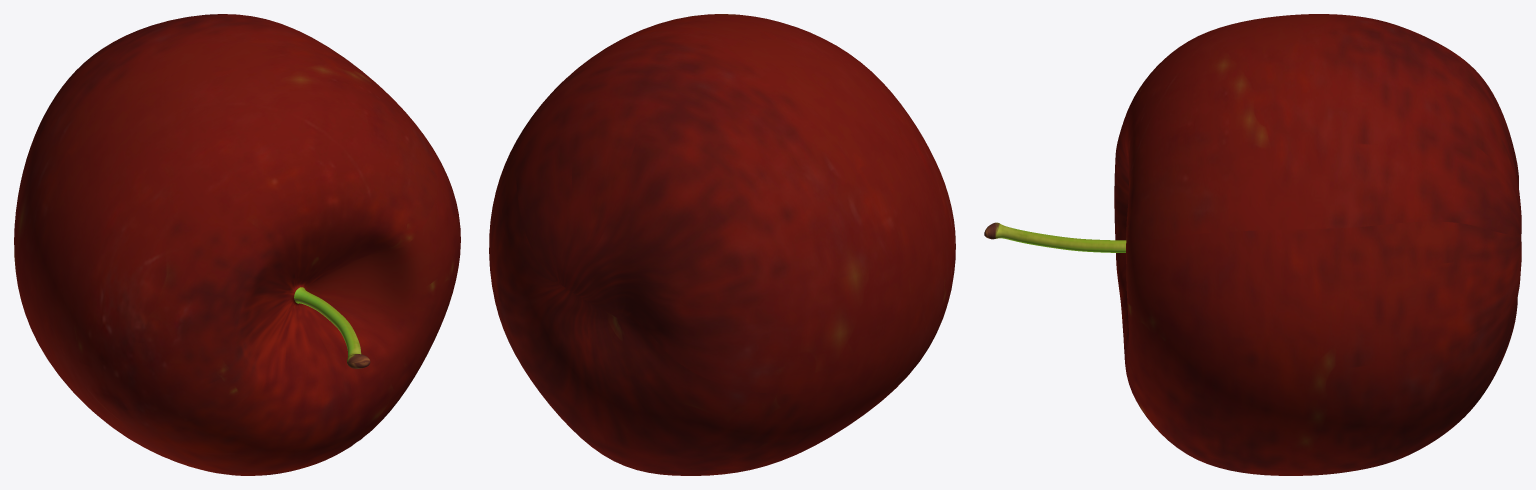
The model's file is apple.obj.
The picture shows the model from 3 angles, left to right: view 1: azimuth 30°, elevation 25°; view 2: azimuth 150°, elevation 25°; view 3: azimuth 270°, elevation 25°; orthographic projection. The views are drawn at different scales.
Parts seen in each view (by area): view 1: 10162_Apple_v01_l3; view 2: 10162_Apple_v01_l3; view 3: 10162_Apple_v01_l3.
Part boxes in pixels (x1,y1,x2,y2): 10162_Apple_v01_l3: (14, 14, 460, 475); 10162_Apple_v01_l3: (489, 14, 955, 475); 10162_Apple_v01_l3: (984, 14, 1521, 475).
Bounding box in the file's own units: 0.0753 × 0.0755 × 0.0877.
Materials: 1 (1 with a texture image).
